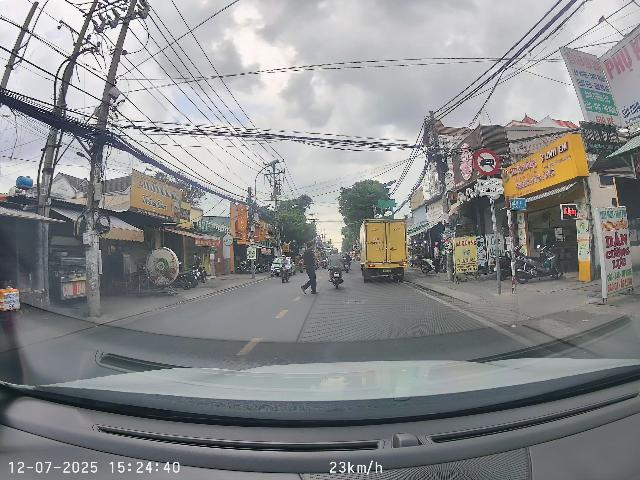106-cam-oto-tai: (474, 149, 499, 175)
